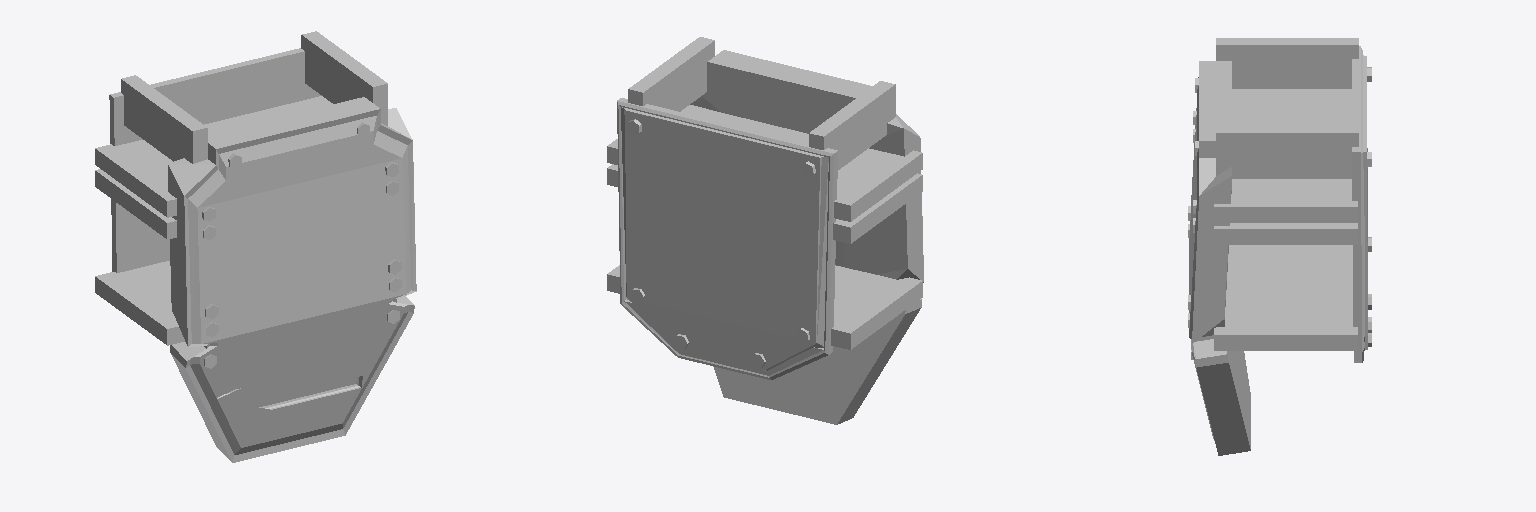
File: chestt.obj
3 renders of one model, left to right at view 1: azimuth 30°, elevation 25°; view 2: azimuth 150°, elevation 25°; view 3: azimuth 270°, elevation 25°, orthographic.
Size of the model in its own units: 0.4574 by 0.6155 by 0.2987.